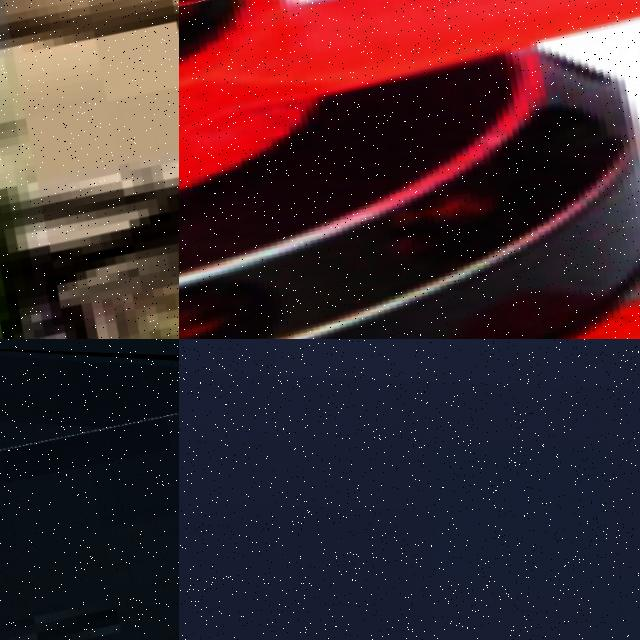drone: (179, 0, 640, 339), (0, 0, 179, 339), (0, 347, 179, 640)
